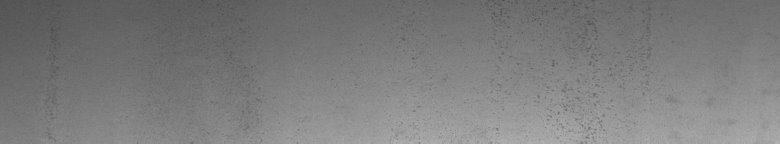ib: (491, 4, 605, 136)
